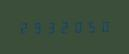five: (82, 19, 94, 33)
nine: (30, 20, 42, 34)
three: (43, 20, 55, 34)
two: (17, 20, 29, 34), (56, 20, 68, 33)
zero: (69, 19, 81, 33), (95, 19, 107, 33)
